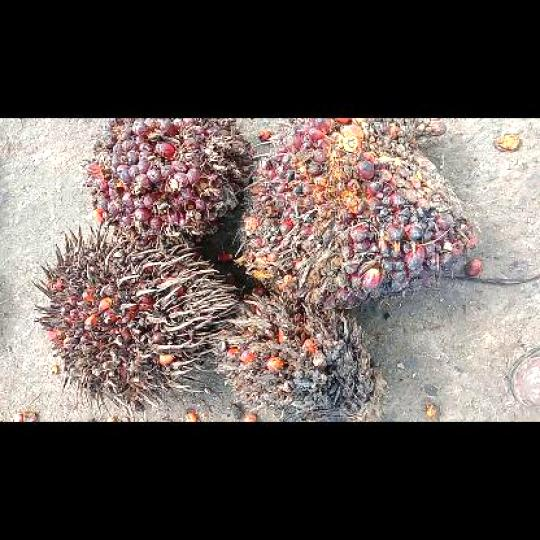masak: (236, 118, 470, 308), (84, 118, 248, 253)
terlalu masak: (31, 223, 236, 421), (214, 294, 384, 420)
